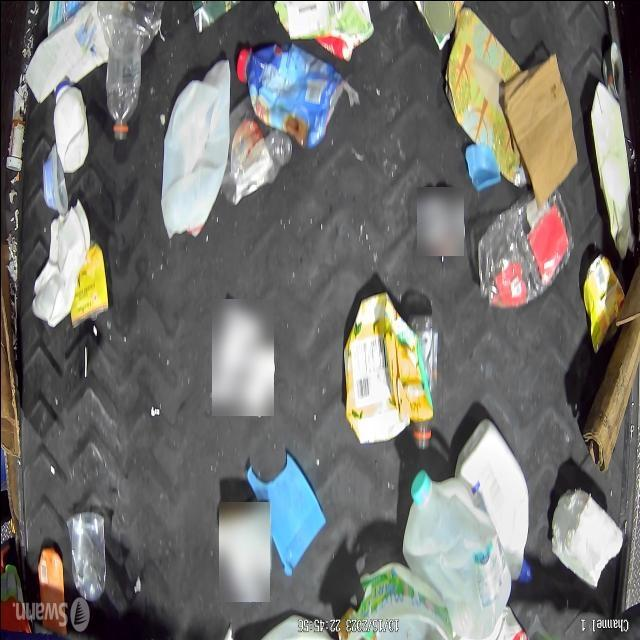milk_jug: (402, 470, 516, 640), (160, 64, 227, 240), (28, 8, 104, 102)
non_white_jug: (342, 290, 432, 446), (454, 417, 532, 581)
plastic_bottle: (220, 98, 292, 206), (102, 8, 142, 140)
